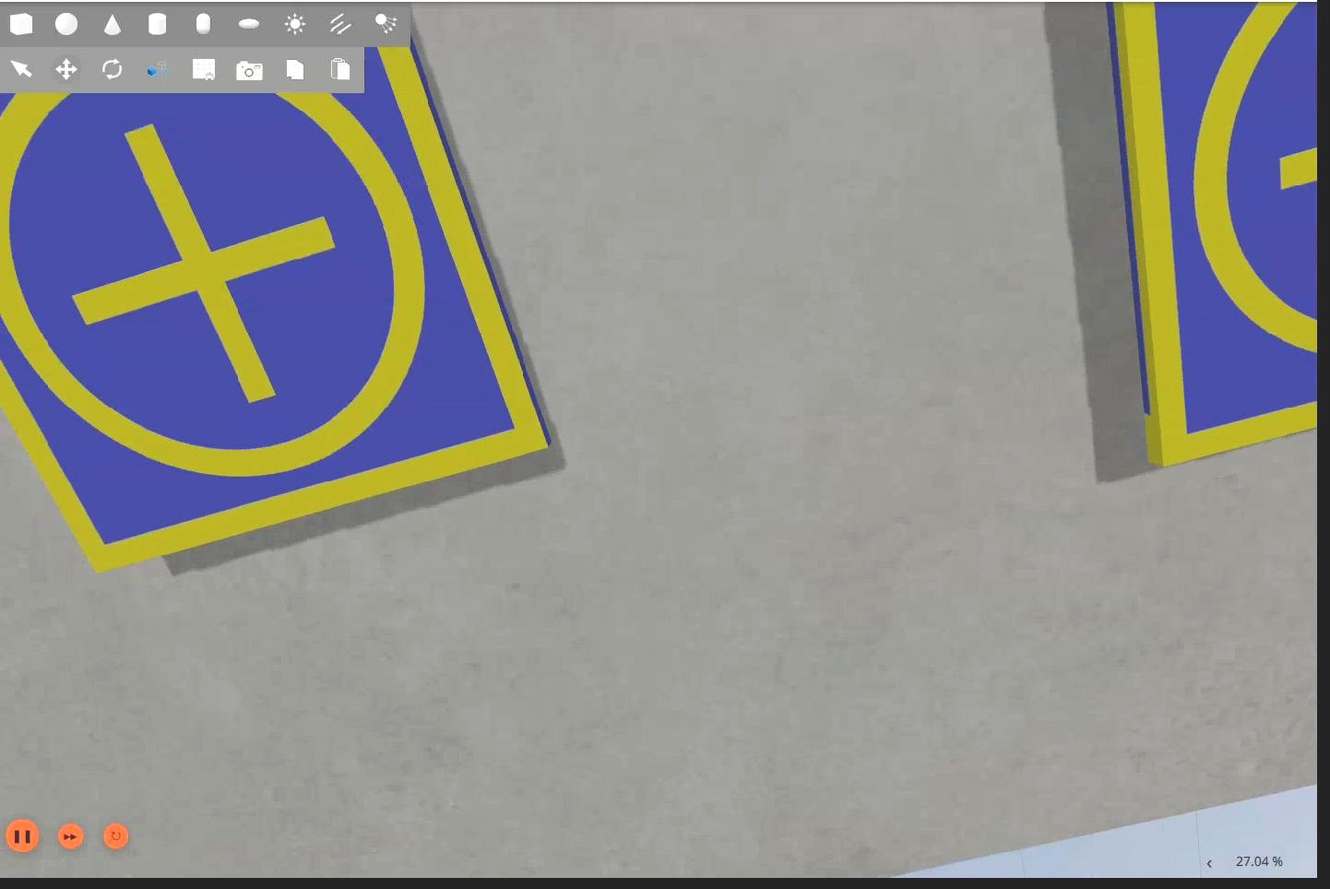small_base: (1, 10, 557, 568), (1109, 1, 1319, 465)
